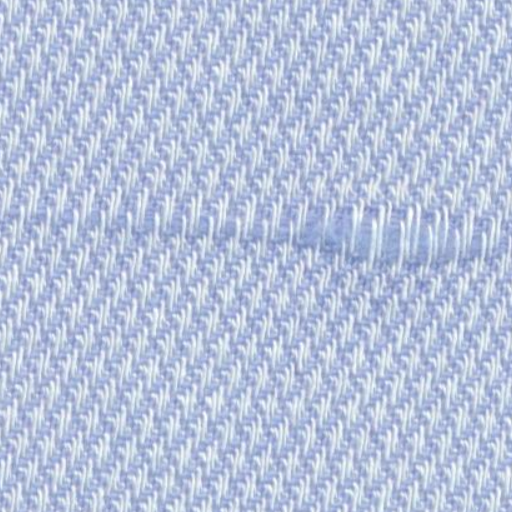DaiSha: (56, 176, 493, 296)
